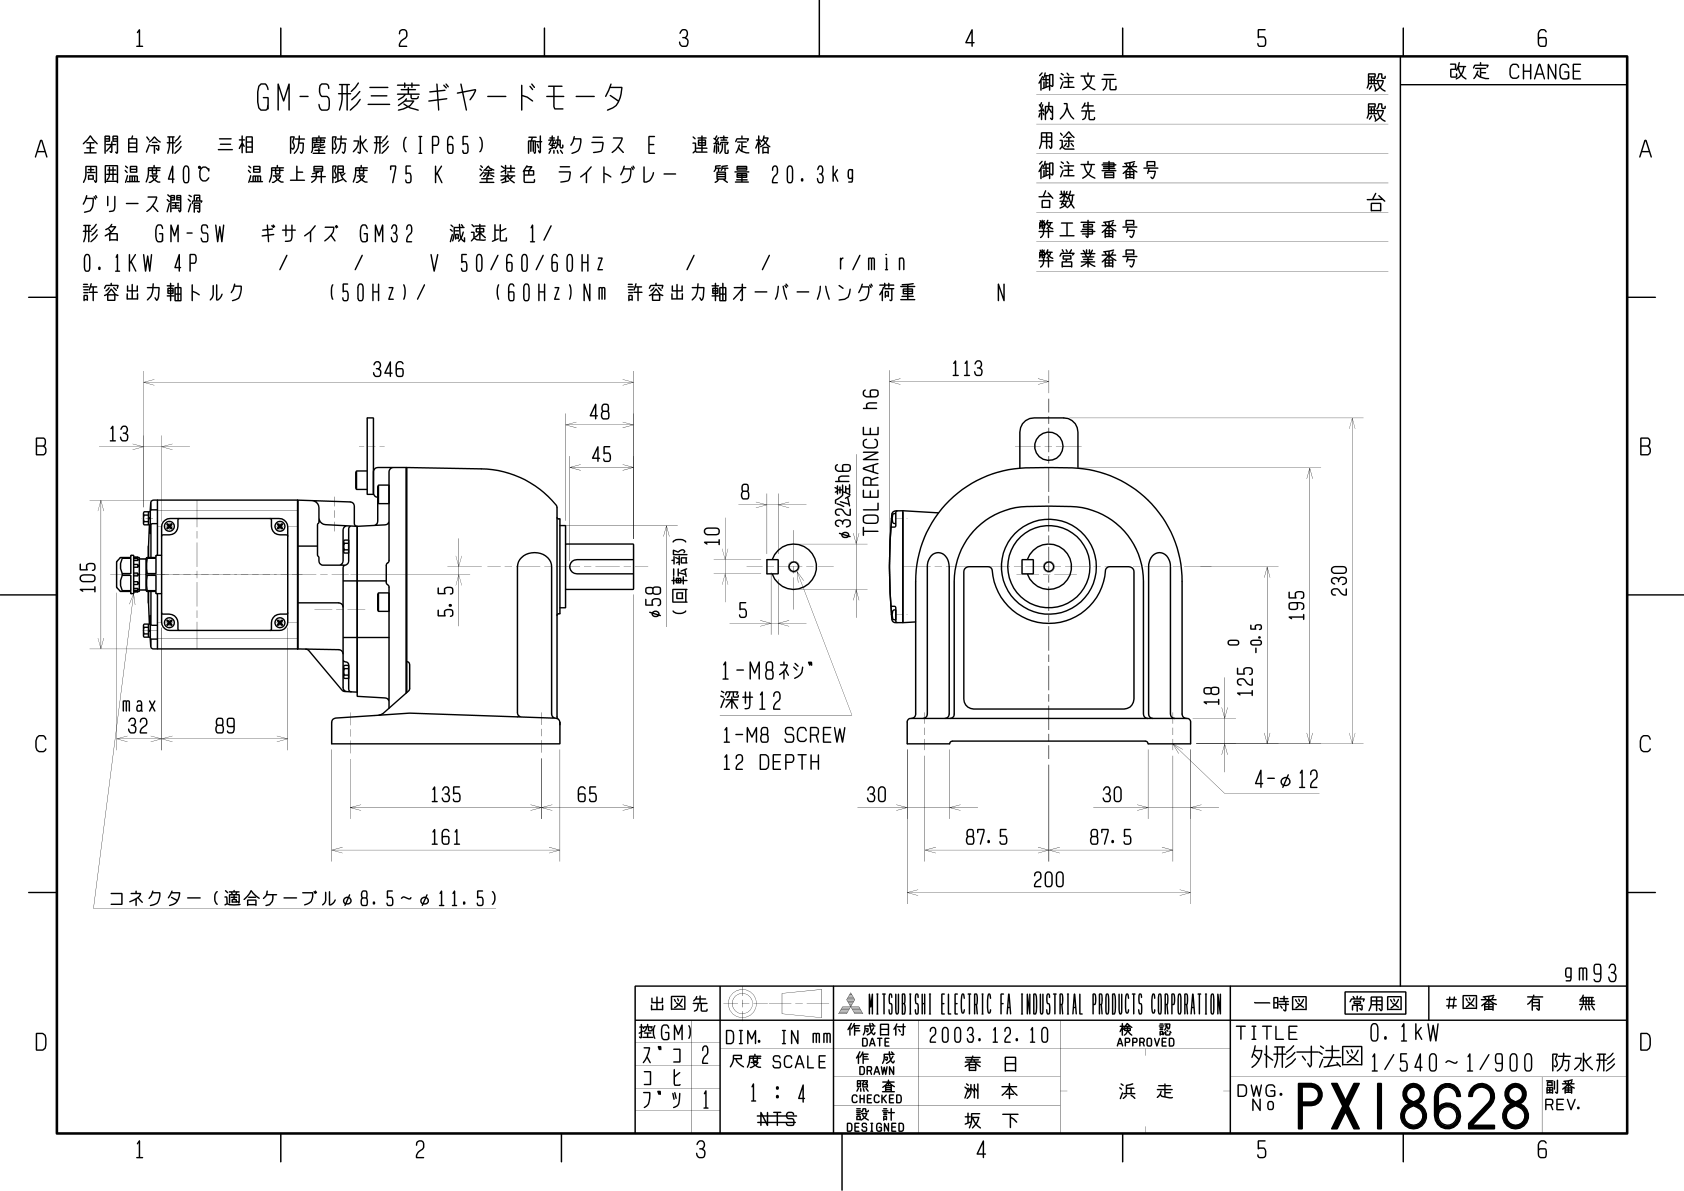GM_S_IP65＿三相_脚: (9, 13, 1684, 1186)
